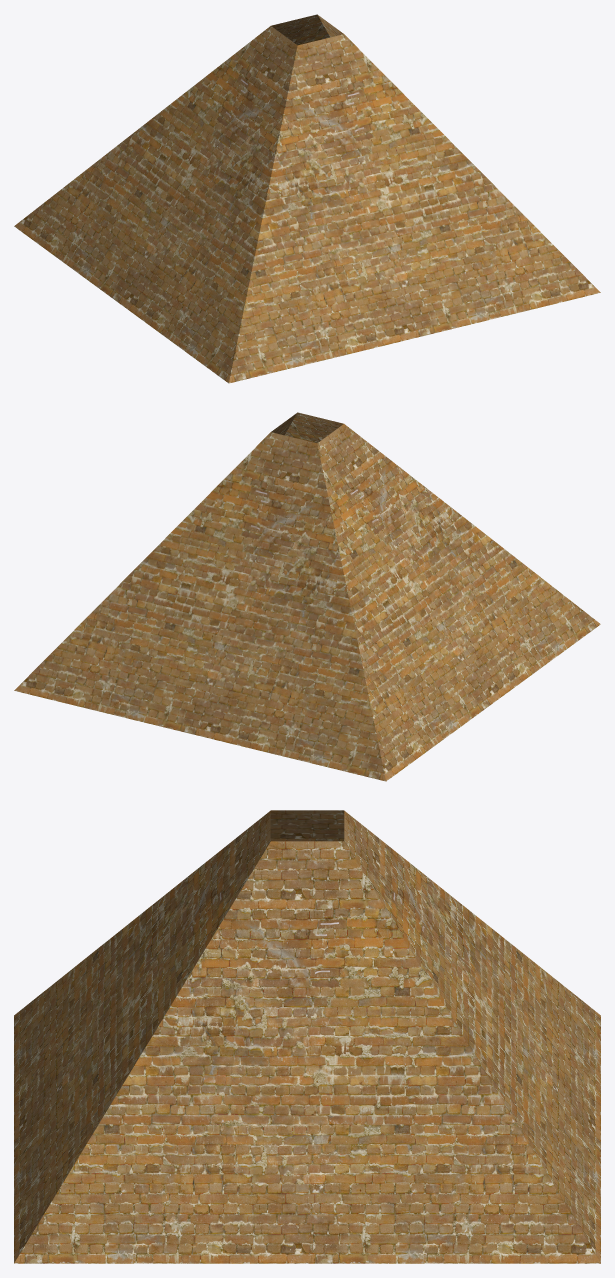
File: piramide.obj
The picture shows the model from 3 angles, top to bottom: view 1: azimuth 30°, elevation 25°; view 2: azimuth 150°, elevation 25°; view 3: azimuth 270°, elevation 25°; orthographic projection. The views are drawn at different scales.
Parts seen in each view (by area): view 1: Cone; view 2: Cone; view 3: Cone.
Boxes of the visible parts, x1,y1,x2,y2 form: Cone: (14,14,600,383); Cone: (14,412,600,781); Cone: (14,810,600,1263).
Bounding box in the file's own units: 8.14 × 4.8 × 8.14.
1 material, 1 textured.
